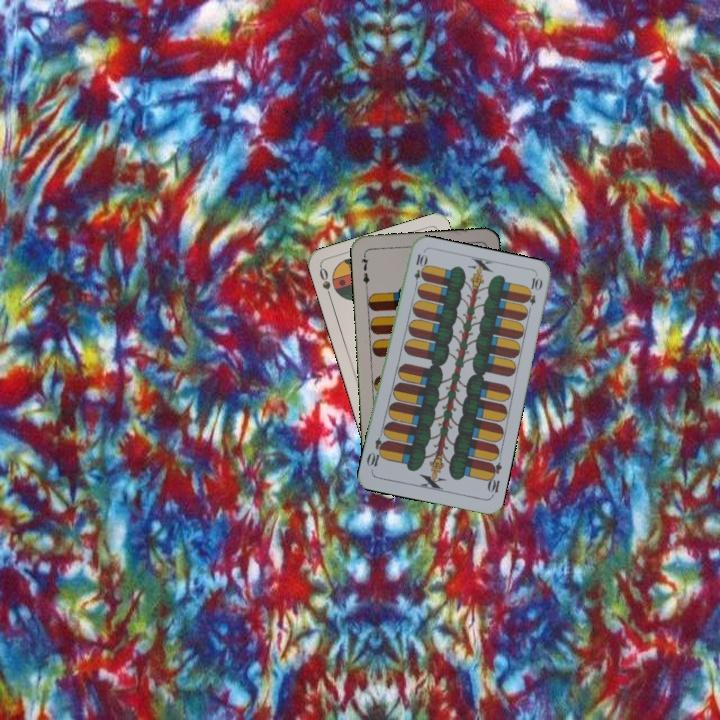E10: (483, 459, 505, 499), (410, 250, 427, 290)
E7: (357, 250, 372, 291)
SO: (315, 263, 335, 303)
